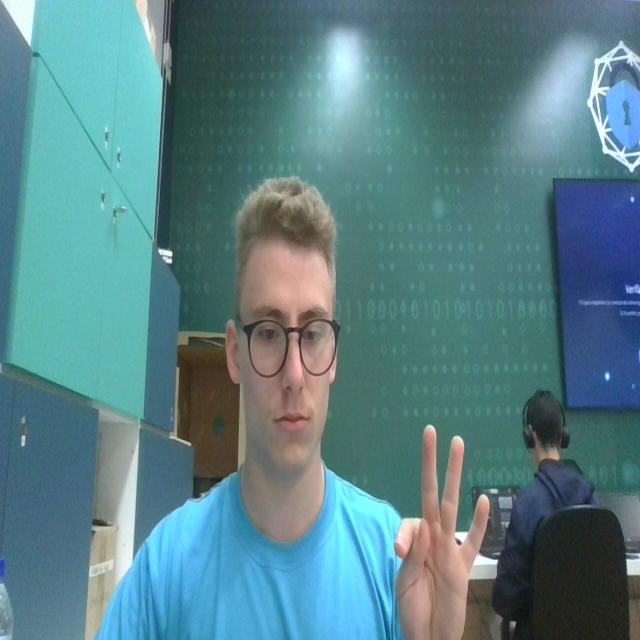T: (384, 415, 494, 640)
